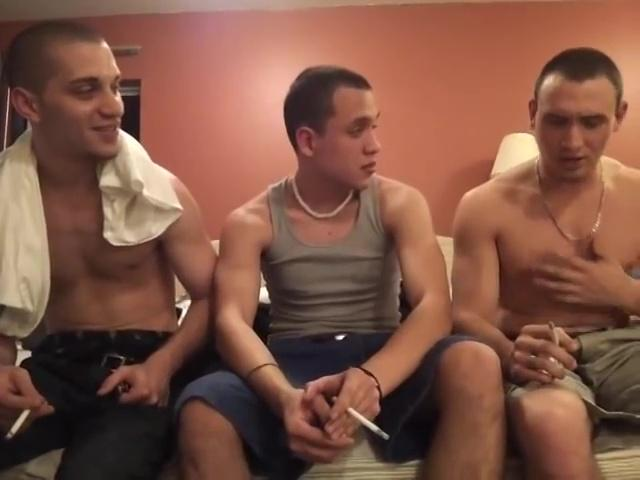cigarette: (347, 406, 392, 441), (5, 405, 32, 441), (549, 320, 562, 350)
